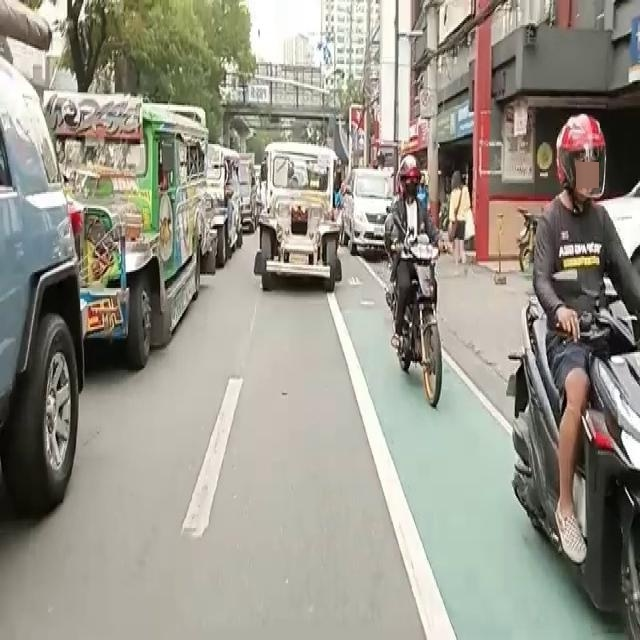jeepney: (63, 110, 199, 375), (258, 122, 345, 292), (199, 145, 242, 273)
motorcycle: (518, 154, 632, 549), (381, 174, 465, 398)
